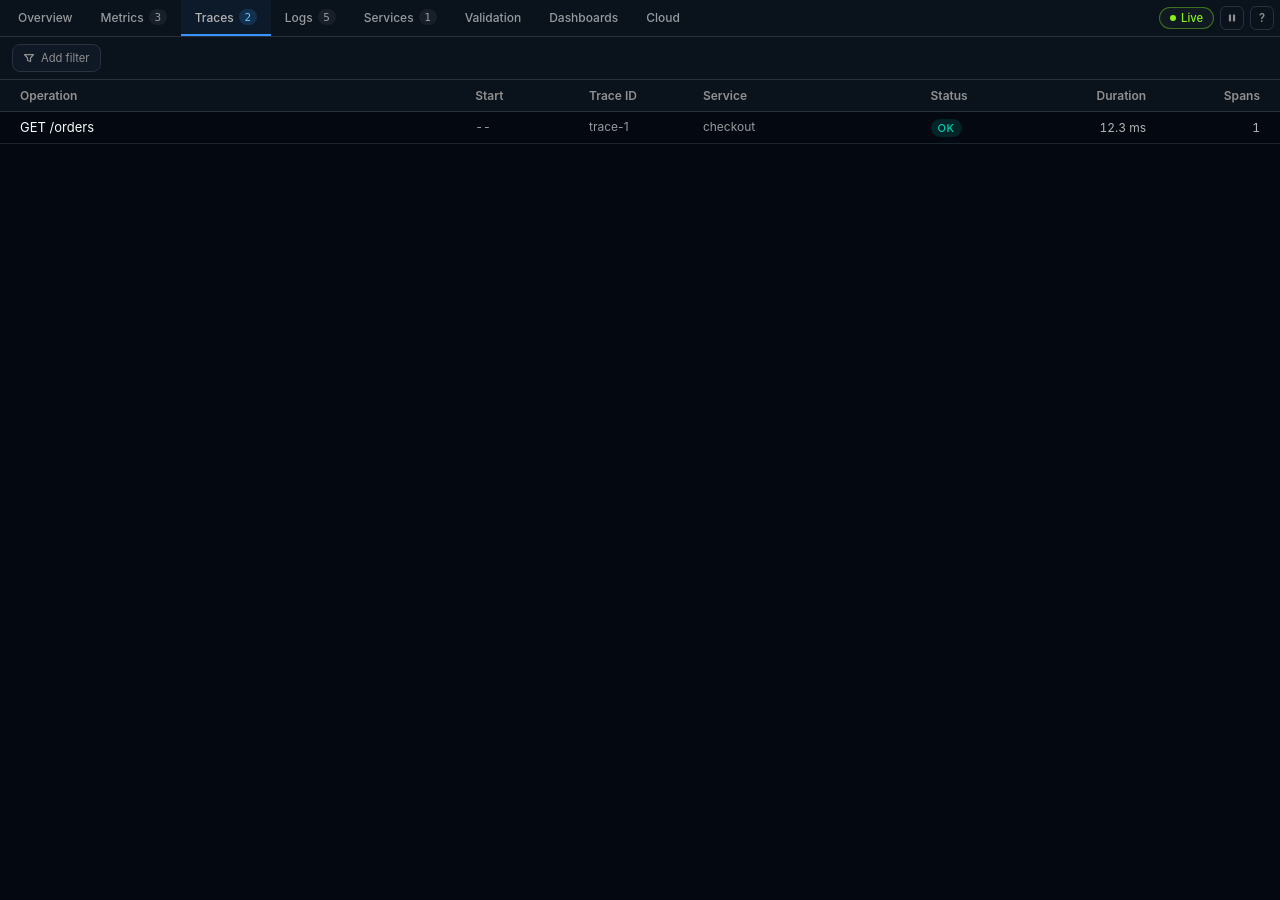
it: AppView validation tab › closes keyboard help without clearing the selected trace
Click the button "GET /orders -- trace-1 checkout ok 12.3 ms 1": (57, 127) 0,112 -> 1279,144
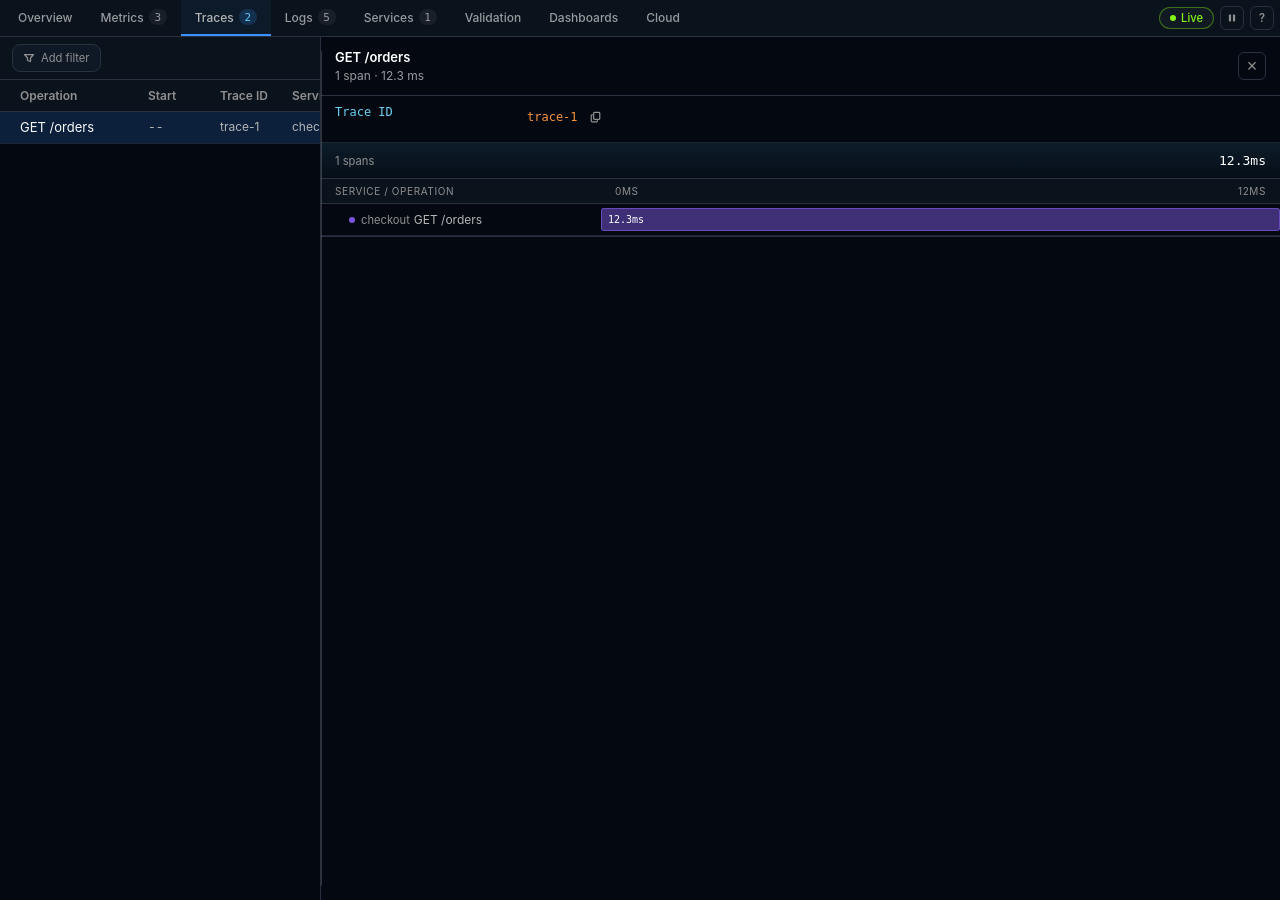
Now the heading with class "detail-panel__title" reads "GET /orders", box 335,49 -> 410,65
Click the button named "Keyboard shortcuts": (1262, 18) 1250,6 -> 1274,30
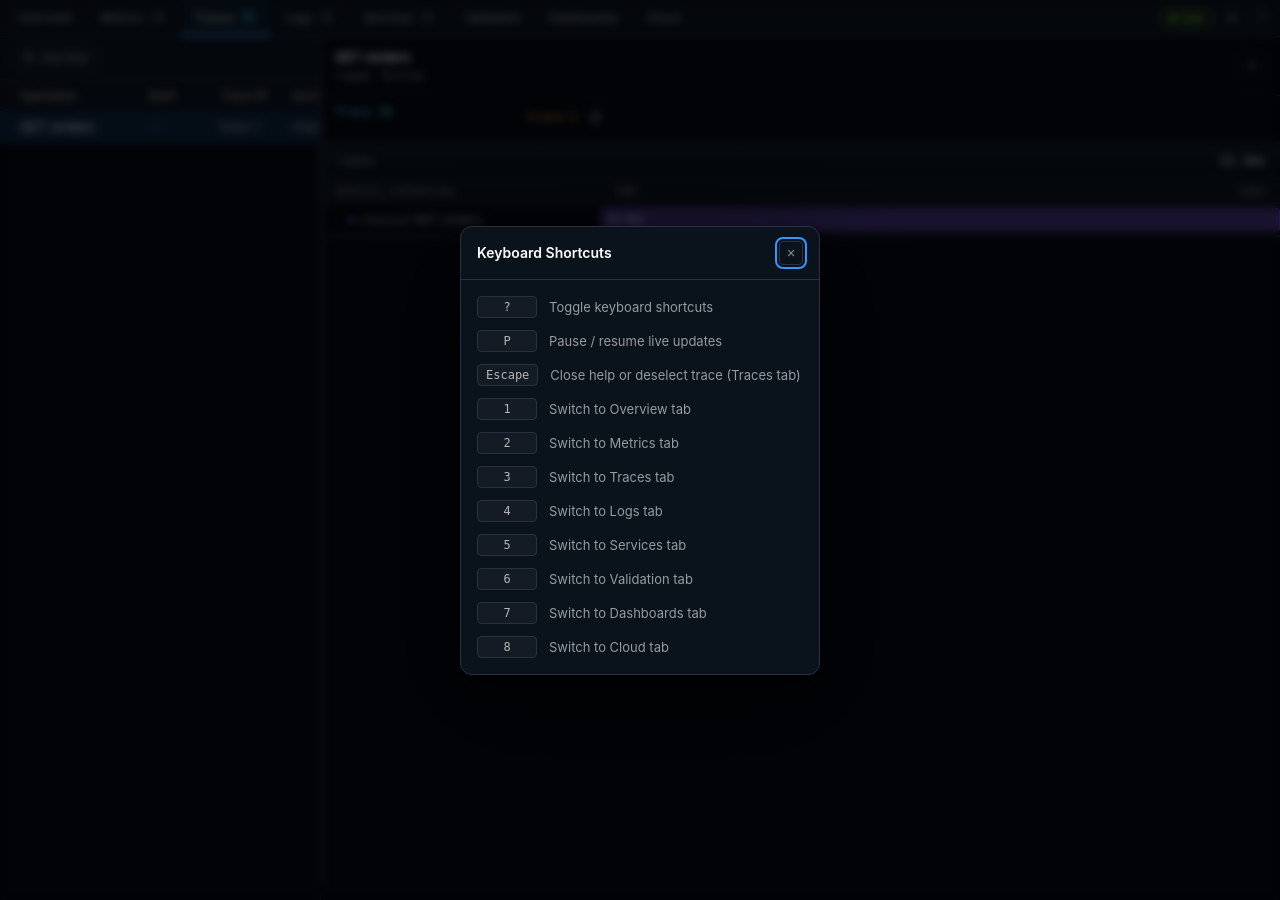
Now the dialog "Keyboard Shortcuts" is shown, box 460,226 -> 820,674
Press Escape
Press Escape
Press Escape
Now the dialog "Keyboard Shortcuts" is shown, box 460,226 -> 820,674
Now the heading with class "detail-panel__title" reads "GET /orders", box 335,49 -> 410,65
Press Escape
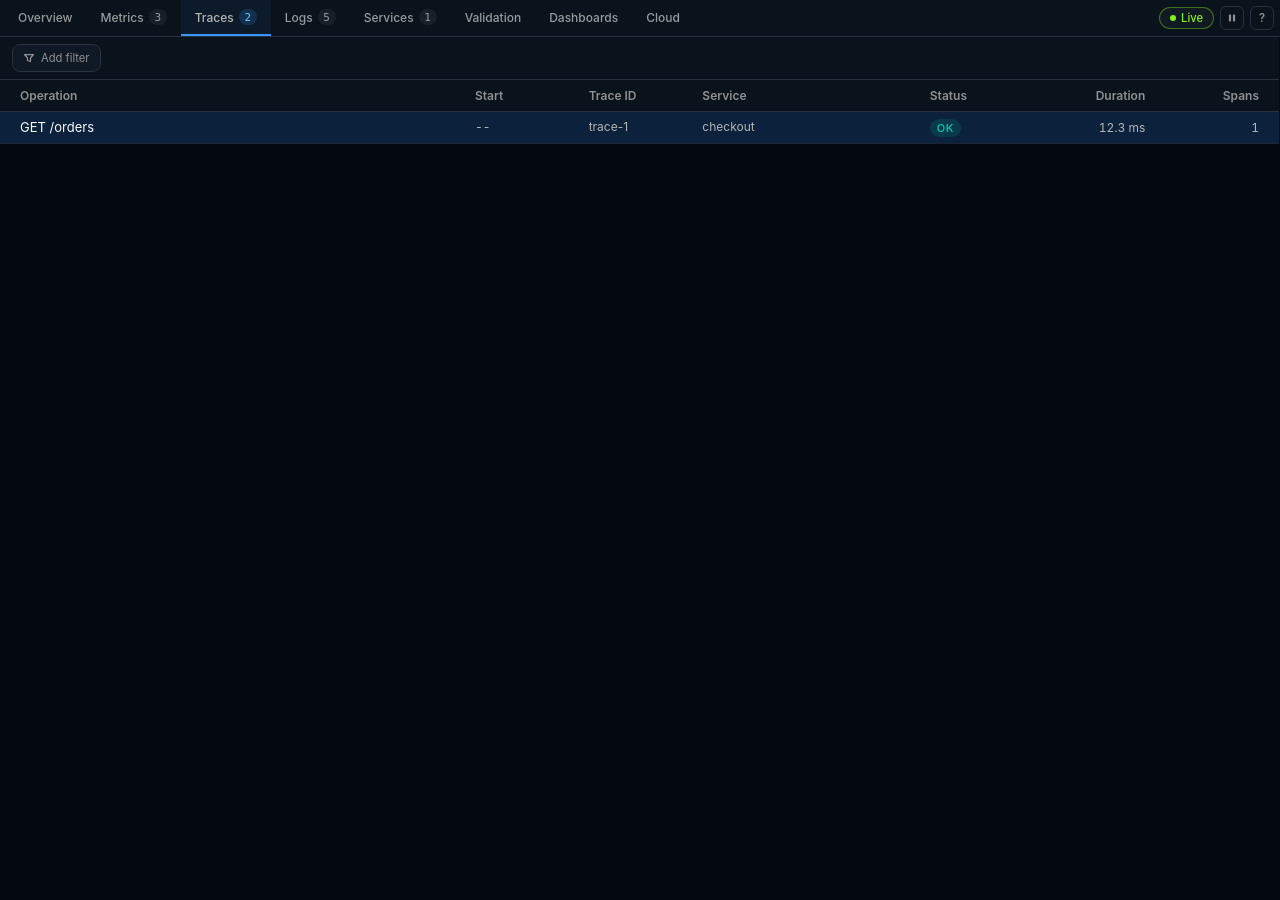
Now the heading "Keyboard Shortcuts" is gone
